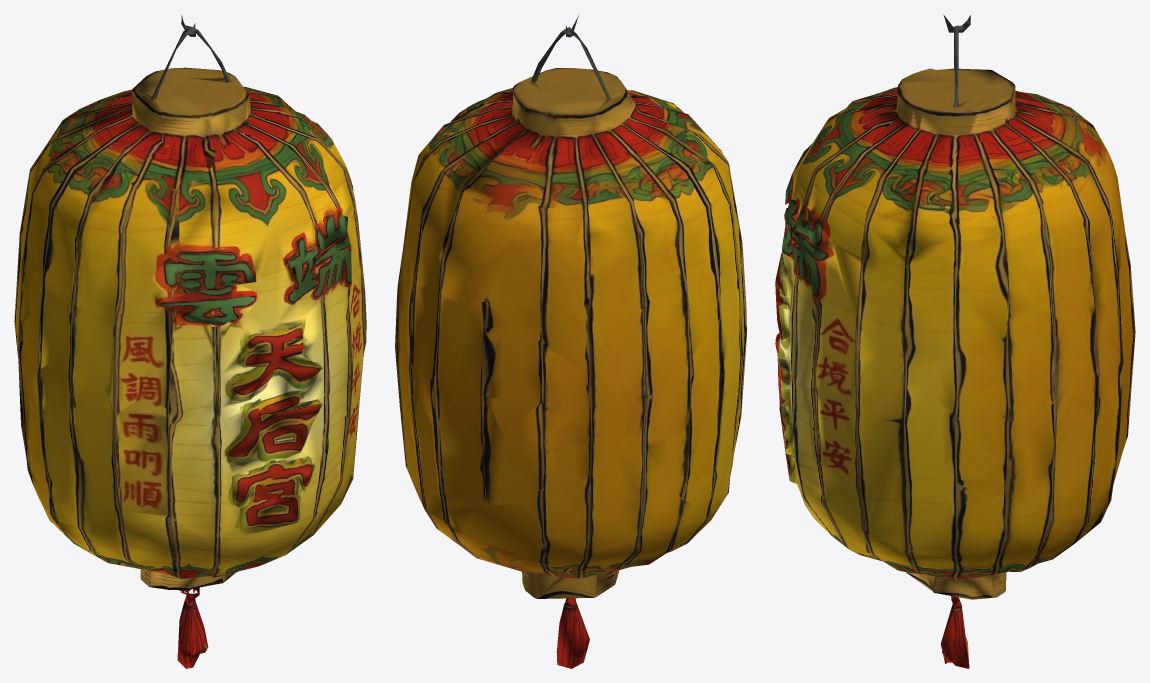
The model's file is ylantern.glb.
The picture shows the model from 3 angles, left to right: view 1: azimuth 30°, elevation 25°; view 2: azimuth 150°, elevation 25°; view 3: azimuth 270°, elevation 25°; orthographic projection.
Size of the model in its own units: 0.4962 by 1 by 0.5008.
Materials: 1 (1 with a texture image).
